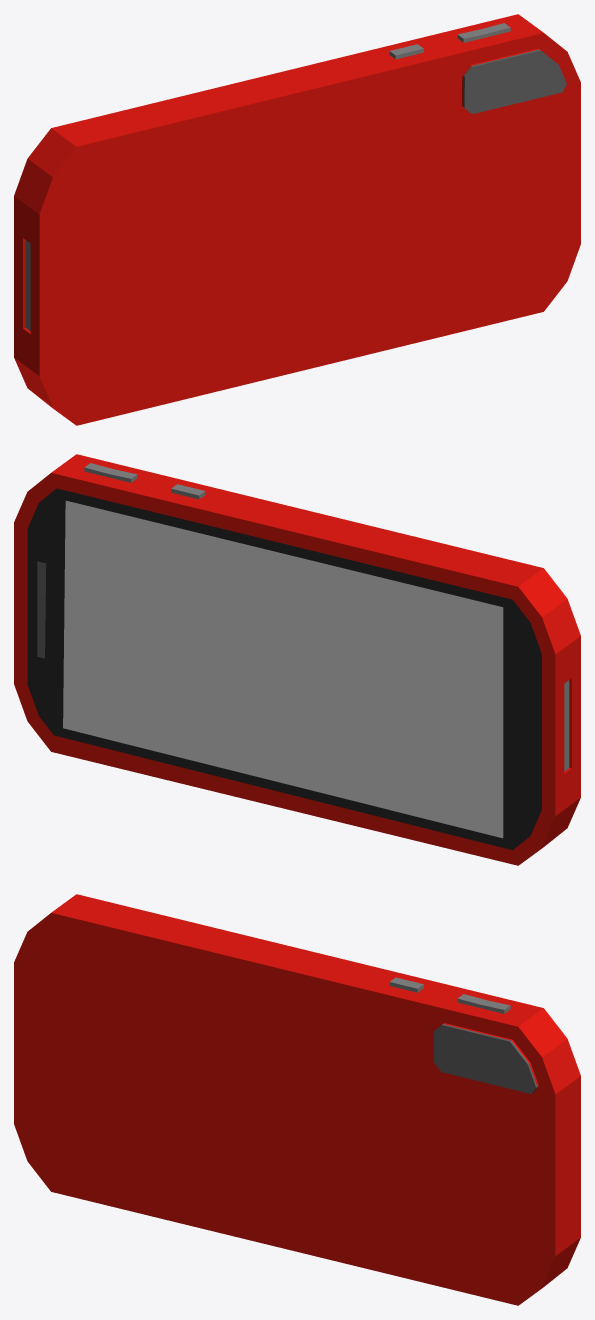
File: phone.fbx
The picture shows the model from 3 angles, top to bottom: view 1: azimuth 30°, elevation 25°; view 2: azimuth 150°, elevation 25°; view 3: azimuth 330°, elevation 25°; orthographic projection.
Visible parts, largest first — view 1: phone; view 2: screen, phone; view 3: phone.
Part boxes in pixels (<box>): phone: <box>14,14,580,425</box>; screen: <box>63,501,502,838</box>; phone: <box>14,454,580,865</box>; phone: <box>14,894,580,1305</box>.
Size of the model in its own units: 406 by 203 by 37.32.
